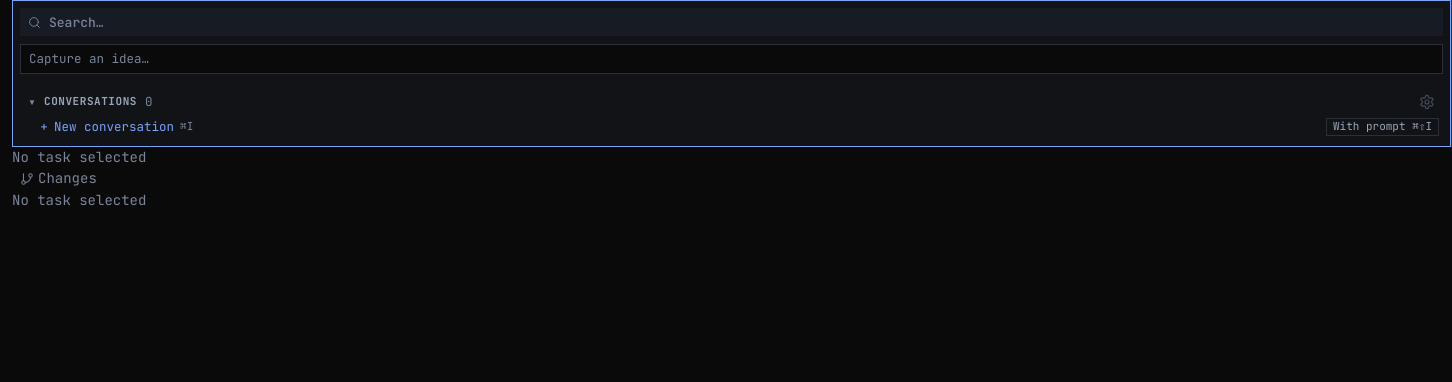
overhaul acceptance - module Changes and current worktrees › [overhaul-189] distinguishes an unavailable module checkout
The image size is (1452, 382).
Click the button with aria-label "Open module Changes" at (58, 179), box [12, 168, 105, 190]
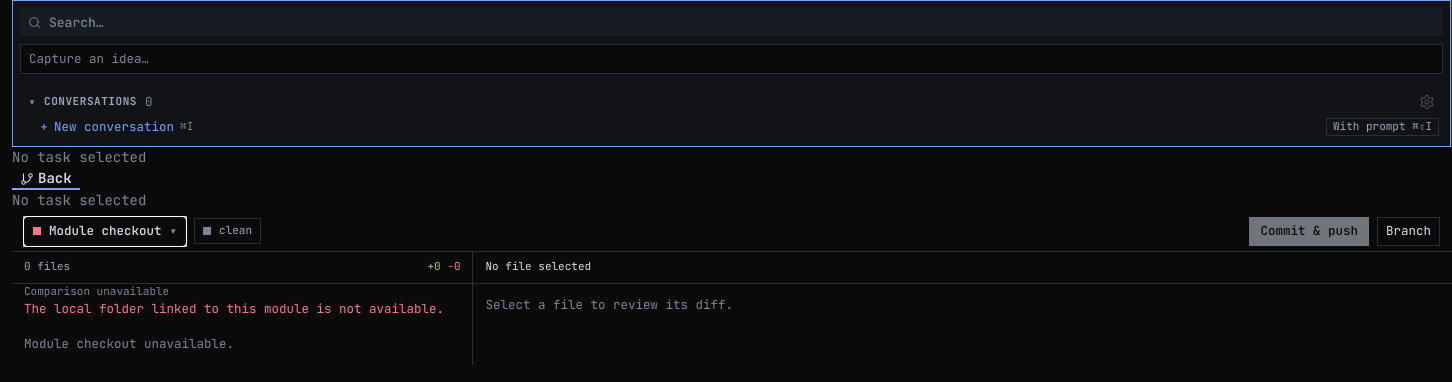
Result: the text "The local folder linked to this module is not available." is shown at [24, 300, 460, 319]
Result: the text "Comparison unavailable" is shown at [24, 284, 169, 298]
